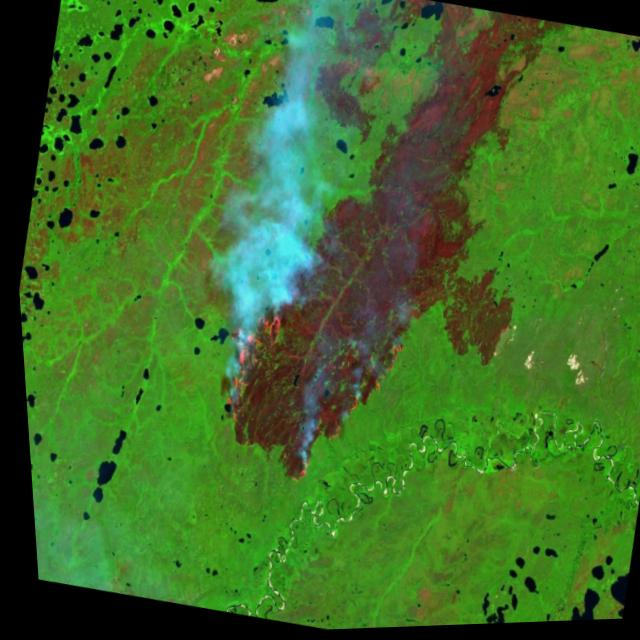fire: (187, 268, 423, 523)
